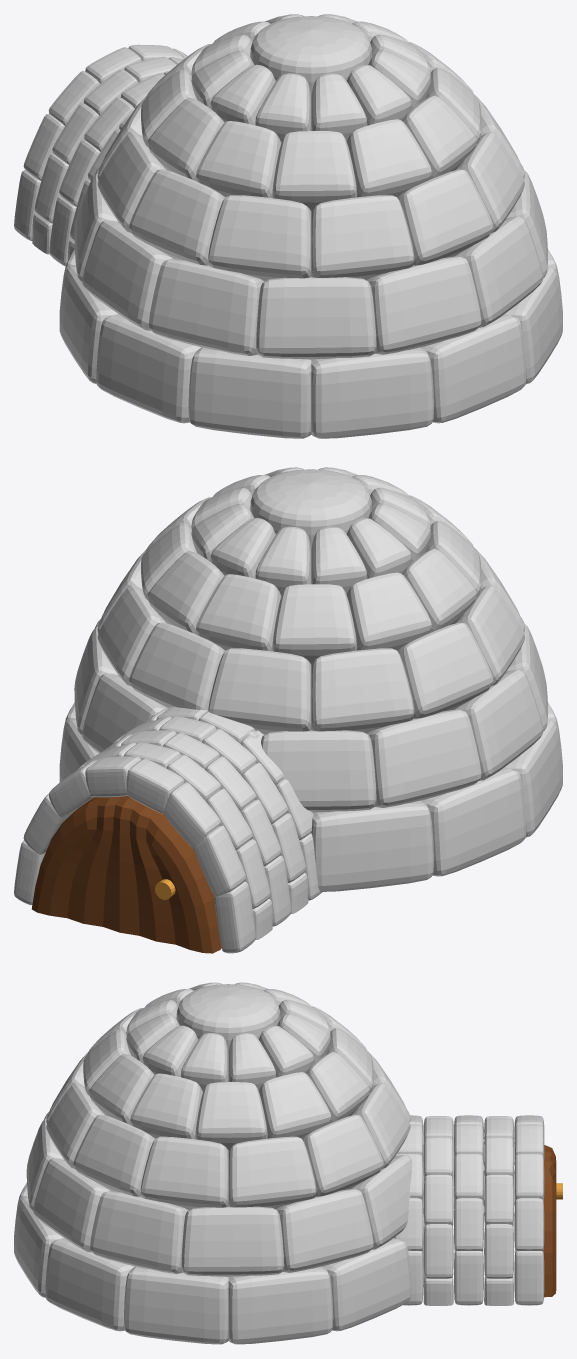
Rendered from iglu1.fbx.
3 views of the same model, one above another, from view 1: azimuth 30°, elevation 25°; view 2: azimuth 150°, elevation 25°; view 3: azimuth 270°, elevation 25° (orthographic). The views are drawn at different scales.
Parts seen in each view (by area): view 1: Cylinder.003; view 2: Cylinder.003, puerta; view 3: Cylinder.003, puerta.
Boxes of the visible parts, bbox=[...] form: Cylinder.003: bbox=[14, 14, 562, 438]; Cylinder.003: bbox=[14, 467, 562, 953]; puerta: bbox=[31, 796, 221, 953]; Cylinder.003: bbox=[14, 982, 544, 1344]; puerta: bbox=[543, 1145, 556, 1297].
Size of the model in its own units: 1822 by 1247 by 2331.
